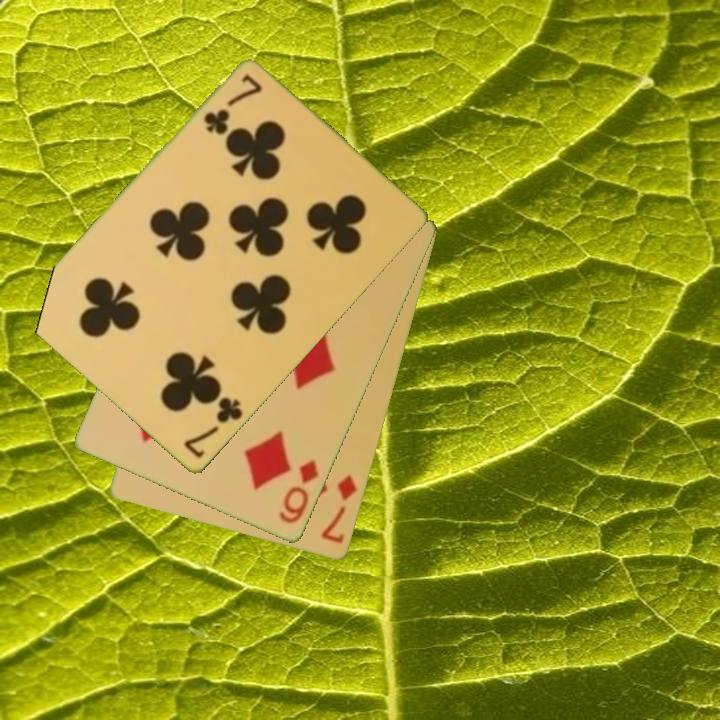6d: (276, 457, 322, 527)
7c: (180, 393, 246, 462), (200, 71, 265, 138)
7d: (318, 471, 361, 547)
